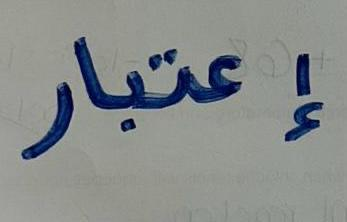ain: (197, 20, 257, 135)
alef: (75, 22, 102, 133)
beh: (103, 37, 143, 152)
hamza: (259, 29, 340, 165)
reh: (9, 53, 74, 180)
teh: (145, 27, 193, 135)
